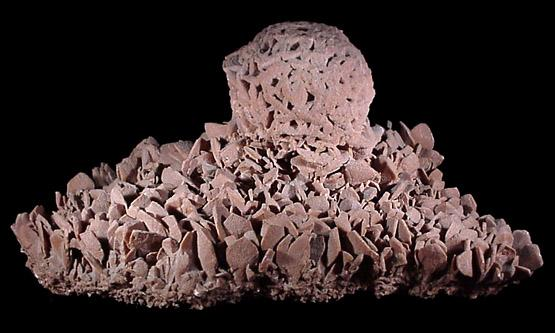gypsum: (13, 22, 544, 308)
